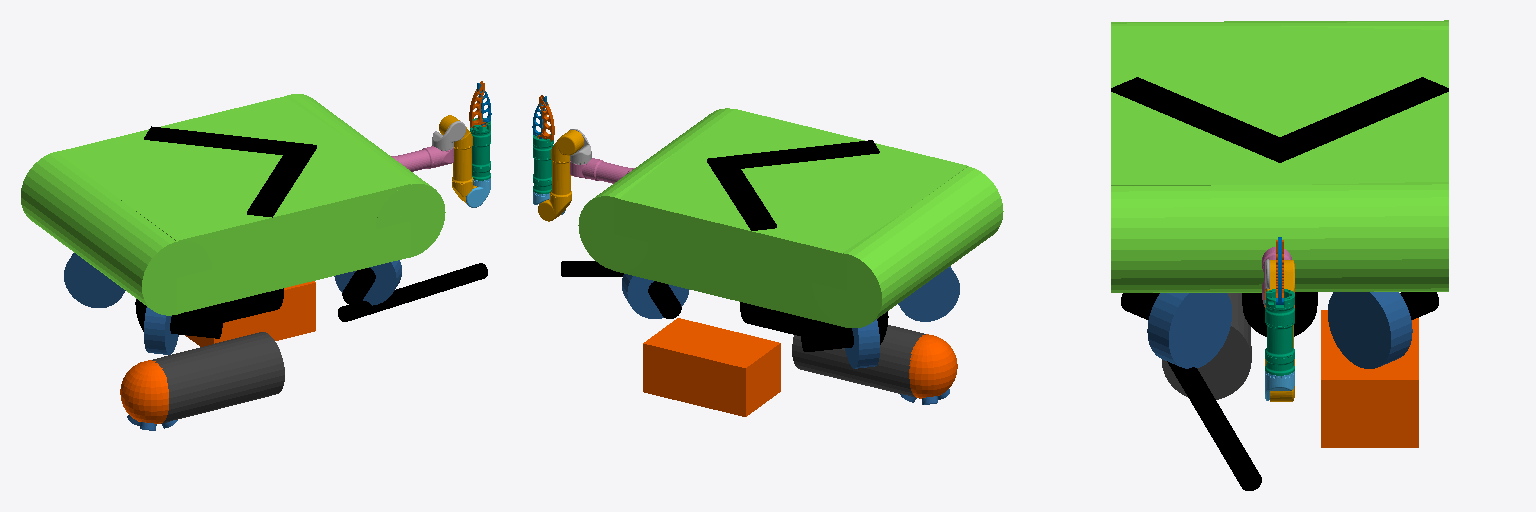
robot.urdf — seabotix_alpha:
<?xml version="1.0" encoding="utf-8"?>
<!-- =================================================================================== -->
<!-- |    This document was autogenerated by xacro from seabotix_alpha_kinematic.xacro | -->
<!-- |    EDITING THIS FILE BY HAND IS NOT RECOMMENDED                                 | -->
<!-- =================================================================================== -->
<!-- Testing out making an xacro with the vehicle and arm together
without any uuv simulator dependencies -->
<robot name="seabotix_alpha">
  <!--
    Vehicle's parameters (remember to enter the model parameters below)
  -->
  <!--
    Visual mesh file for the vehicle, usually in DAE (Collada) format. Be sure to store the
    mesh with the origin of the mesh on the same position of the center of mass, otherwise
    the mesh pose will have to be corrected below in the <visual> block.
    Open the meshes for the RexROV vehicle in Blender to see an example on the mesh placement.
  -->
  <!-- <xacro:property name="visual_mesh_file" value="file://$(find seabotix_alpha_description)/meshes/vehicle.dae"/> -->
  <!-- Collision geometry mesh, usually in STL format (it is recommended to keep
  this geometry as simple as possible to improve the performance the physics engine
  regarding the computation of collision forces) -->
  <!-- <xacro:property name="collision_mesh_file" value="file://$(find seabotix_alpha_description)/meshes/vehicle.stl"/> -->
  <!-- We do not have different visual and collision files, as we define them directly in the URDF 
       using primitive shapes.
  -->
  <!-- Vehicle macro -->
  <!-- <xacro:macro name="seabotix_alpha_base" params="namespace *gazebo"> -->
  <link name="base_link">
    <inertial>
      <mass value="0"/>
      <origin rpy="0 0 0" xyz="0 0 0"/>
      <inertia ixx="0" ixy="0" ixz="0" iyy="0" iyz="0" izz="0"/>
    </inertial>
  </link>
  <link name="world_link_x">
    <inertial>
      <mass value="0"/>
      <origin rpy="0 0 0" xyz="0 0 0"/>
      <inertia ixx="0" ixy="0" ixz="0" iyy="0" iyz="0" izz="0"/>
    </inertial>
  </link>
  <link name="world_link_y">
    <inertial>
      <mass value="0"/>
      <origin rpy="0 0 0" xyz="0 0 0"/>
      <inertia ixx="0" ixy="0" ixz="0" iyy="0" iyz="0" izz="0"/>
    </inertial>
  </link>
  <link name="world_link_z">
    <inertial>
      <mass value="0"/>
      <origin rpy="0 0 0" xyz="0 0 0"/>
      <inertia ixx="0" ixy="0" ixz="0" iyy="0" iyz="0" izz="0"/>
    </inertial>
  </link>
  <link name="world_link_roll">
    <inertial>
      <mass value="0"/>
      <origin rpy="0 0 0" xyz="0 0 0"/>
      <inertia ixx="0" ixy="0" ixz="0" iyy="0" iyz="0" izz="0"/>
    </inertial>
  </link>
  <link name="world_link_pitch">
    <inertial>
      <mass value="0"/>
      <origin rpy="0 0 0" xyz="0 0 0"/>
      <inertia ixx="0" ixy="0" ixz="0" iyy="0" iyz="0" izz="0"/>
    </inertial>
  </link>
  <!-- Rigid body description of the base link -->
  <!-- <link name="${namespace}/base_link"> -->
  <link name="world_link_yaw">
    <!--
          Be careful to setup the coefficients for the inertial tensor,
          otherwise your model will become unstable on Gazebo
        -->
    <inertial>
      <mass value="0"/>
      <origin rpy="0 0 0" xyz="0 0 0"/>
      <inertia ixx="0" ixy="0" ixz="0" iyy="0" iyz="0" izz="0"/>
    </inertial>
    <!-- <visual>
          <origin xyz="0 0 0" rpy="0 0 0"/>
          <geometry> -->
    <!-- <mesh filename="${visual_mesh_file}" scale="1 1 1" />  -->
    <!-- <box size="1 1 1" />
            <color rgb="blue" />
          </geometry>
        </visual>

        <collision>
          <origin xyz="0 0 0" rpy="0 0 0"/>
          <geometry>
            <box size="1 1 1" />
          </geometry>
        </collision> -->
  </link>
  <material name="green_v">
    <color rgba="0.5 0.9 0.3 1"/>
  </material>
  <material name="black_v">
    <color rgba="0 0 0 1"/>
  </material>
  <material name="red_v">
    <color rgba="1 0 0 1"/>
  </material>
  <material name="blue_v">
    <color rgba="0.2 0.4 0.6 1"/>
  </material>
  <material name="grey_v">
    <color rgba=".3 .3 .3 1"/>
  </material>
  <material name="orange_v">
    <color rgba="1 .4 0 1"/>
  </material>
  <link name="vehicle_base_link">
    <visual>
      <geometry>
        <box size="0.5 0.45 0.15"/>
      </geometry>
      <material name="green_v"/>
    </visual>
  </link>
  <link name="front_bumper">
    <visual>
      <geometry>
        <cylinder length="0.45" radius="0.075"/>
      </geometry>
      <material name="green_v"/>
    </visual>
  </link>
  <joint name="fbump_link" type="fixed">
    <parent link="vehicle_base_link"/>
    <child link="front_bumper"/>
    <origin rpy="1.57579632679 0 0" xyz="0.25 0 0"/>
  </joint>
  <link name="rear_bumper">
    <visual>
      <geometry>
        <cylinder length="0.45" radius="0.075"/>
      </geometry>
      <material name="green_v"/>
    </visual>
  </link>
  <joint name="rbump_link" type="fixed">
    <parent link="vehicle_base_link"/>
    <child link="rear_bumper"/>
    <origin rpy="1.57579632679 0 0" xyz="-0.25 0 0"/>
  </joint>
  <link name="l_arrow">
    <visual>
      <geometry>
        <box size="0.05 0.318 0.01"/>
      </geometry>
      <material name="black_v"/>
    </visual>
  </link>
  <joint name="l_arrow_link" type="fixed">
    <parent link="vehicle_base_link"/>
    <child link="l_arrow"/>
    <origin rpy="0 0 0.787898163397" xyz="0.05 0.095 0.075"/>
  </joint>
  <link name="r_arrow">
    <visual>
      <geometry>
        <box size="0.05 0.318 0.01"/>
      </geometry>
      <material name="black_v"/>
    </visual>
  </link>
  <joint name="r_arrow_link" type="fixed">
    <parent link="vehicle_base_link"/>
    <child link="r_arrow"/>
    <origin rpy="0 0 -0.787898163397" xyz="0.05 -0.095 0.075"/>
  </joint>
  <link name="sf_fan">
    <visual>
      <geometry>
        <cylinder length="0.04" radius="0.06"/>
      </geometry>
      <material name="blue_v"/>
    </visual>
  </link>
  <joint name="base_to_sf_fan" type="fixed">
    <parent link="vehicle_base_link"/>
    <child link="sf_fan"/>
    <origin rpy="0 1.57579632679 0.785" xyz="0.22 -0.12 -0.14"/>
  </joint>
  <link name="sf_thruster">
    <visual>
      <geometry>
        <cylinder length="0.1" radius="0.02"/>
      </geometry>
      <material name="black_v"/>
    </visual>
  </link>
  <joint name="sf_fan_thruster_joint" type="fixed">
    <parent link="sf_fan"/>
    <child link="sf_thruster"/>
    <origin xyz="0 0 -0.06"/>
  </joint>
  <link name="pf_fan">
    <visual>
      <geometry>
        <cylinder length="0.04" radius="0.06"/>
      </geometry>
      <material name="blue_v"/>
    </visual>
  </link>
  <joint name="base_to_pf_fan" type="fixed">
    <parent link="vehicle_base_link"/>
    <child link="pf_fan"/>
    <origin rpy="0 1.57579632679 -0.785" xyz="0.22 0.12 -0.14"/>
  </joint>
  <link name="pf_thruster">
    <visual>
      <geometry>
        <cylinder length="0.1" radius="0.02"/>
      </geometry>
      <material name="black_v"/>
    </visual>
  </link>
  <joint name="pf_fan_thruster_joint" type="fixed">
    <parent link="pf_fan"/>
    <child link="pf_thruster"/>
    <origin xyz="0 0 -0.06"/>
  </joint>
  <link name="sa_fan">
    <visual>
      <geometry>
        <cylinder length="0.04" radius="0.06"/>
      </geometry>
      <material name="blue_v"/>
    </visual>
  </link>
  <joint name="base_to_sa_fan" type="fixed">
    <parent link="vehicle_base_link"/>
    <child link="sa_fan"/>
    <origin rpy="0 -1.57579632679 -0.785" xyz="-0.22 -0.12 -0.14"/>
  </joint>
  <link name="sa_thruster">
    <visual>
      <geometry>
        <cylinder length="0.1" radius="0.02"/>
      </geometry>
      <material name="black_v"/>
    </visual>
  </link>
  <joint name="sa_fan_thruster_joint" type="fixed">
    <parent link="sa_fan"/>
    <child link="sa_thruster"/>
    <origin xyz="0 0 -0.06"/>
  </joint>
  <link name="pa_fan">
    <visual>
      <geometry>
        <cylinder length="0.04" radius="0.06"/>
      </geometry>
      <material name="blue_v"/>
    </visual>
  </link>
  <joint name="base_to_pa_fan" type="fixed">
    <parent link="vehicle_base_link"/>
    <child link="pa_fan"/>
    <origin rpy="0 -1.57579632679 0.785" xyz="-0.22 0.12 -0.14"/>
  </joint>
  <link name="pa_thruster">
    <visual>
      <geometry>
        <cylinder length="0.1" radius="0.02"/>
      </geometry>
      <material name="black_v"/>
    </visual>
  </link>
  <joint name="pa_fan_thruster_joint" type="fixed">
    <parent link="pa_fan"/>
    <child link="pa_thruster"/>
    <origin xyz="0 0 -0.06"/>
  </joint>
  <link name="seabotix_bottle">
    <visual>
      <geometry>
        <cylinder length="0.26" radius="0.05"/>
      </geometry>
      <material name="black_v"/>
    </visual>
  </link>
  <joint name="sbottle_link" type="fixed">
    <parent link="vehicle_base_link"/>
    <child link="seabotix_bottle"/>
    <origin rpy="0 1.57579632679 0" xyz="-0.05 0 -0.18"/>
  </joint>
  <!-- 
      <link name="greensea">
        <visual>
          <geometry>
            <cylinder length="0.2" radius="0.04"/>
          </geometry>
          <origin rpy="0 ${pi/2} 0"/>
          <material name="grey_v"/>
        </visual>
      </link>

      <joint name="gbottle_link" type="fixed">
        <parent link="greensea"/>
        <child link="vehicle_base_link"/>
        <origin rpy="-${pi} 0 0" xyz="0 0 -0.27"/>
      </joint> -->
  <link name="dvl">
    <visual>
      <geometry>
        <cylinder length="0.25" radius="0.06"/>
      </geometry>
      <material name="grey_v"/>
      <origin rpy="0 1.57579632679 0" xyz="-0.125 0 0"/>
    </visual>
  </link>
  <joint name="dvl_link" type="fixed">
    <parent link="vehicle_base_link"/>
    <child link="dvl"/>
    <origin rpy="0 0 3.15159265359" xyz="-0.23 -0.1 -0.29"/>
  </joint>
  <link name="dvl_head">
    <visual>
      <geometry>
        <sphere radius="0.06"/>
      </geometry>
      <material name="orange_v"/>
    </visual>
  </link>
  <joint name="dvl_head_link" type="fixed">
    <parent link="dvl"/>
    <child link="dvl_head"/>
    <origin rpy="0 0 -0.787898163397" xyz="0 0 0"/>
  </joint>
  <link name="dvl_altitude"/>
  <joint name="dvl_altitude_link" type="fixed">
    <parent link="dvl_head"/>
    <child link="dvl_altitude"/>
    <origin rpy="0 1.57579632679 0" xyz="0 0 0"/>
  </joint>
  <link name="dvl_beam1">
    <visual>
      <geometry>
        <cylinder length="0.07" radius="0.015"/>
      </geometry>
      <origin rpy="0 1.57579632679 0" xyz="0.035 0 0"/>
      <material name="blue_v"/>
    </visual>
  </link>
  <joint name="dvl_beam1_link" type="fixed">
    <parent link="dvl_head"/>
    <child link="dvl_beam1"/>
    <origin rpy="0 1.05053088453 1.57579632679" xyz="0 0 0"/>
  </joint>
  <link name="dvl_beam2">
    <visual>
      <geometry>
        <cylinder length="0.07" radius="0.015"/>
      </geometry>
      <origin rpy="0 1.57579632679 0" xyz="0.035 0 0"/>
      <material name="blue_v"/>
    </visual>
  </link>
  <joint name="dvl_beam2_link" type="fixed">
    <parent link="dvl_head"/>
    <child link="dvl_beam2"/>
    <origin rpy="0 1.05053088453 -1.57579632679" xyz="0 0 0"/>
  </joint>
  <link name="dvl_beam3">
    <visual>
      <geometry>
        <cylinder length="0.07" radius="0.015"/>
      </geometry>
      <origin rpy="0 1.57579632679 0" xyz="0.035 0 0"/>
      <material name="blue_v"/>
    </visual>
  </link>
  <joint name="dvl_beam3_link" type="fixed">
    <parent link="dvl_head"/>
    <child link="dvl_beam3"/>
    <origin rpy="0 1.05053088453 0" xyz="0 0 0"/>
  </joint>
  <link name="dvl_beam4">
    <visual>
      <geometry>
        <cylinder length="0.07" radius="0.015"/>
      </geometry>
      <origin rpy="0 1.57579632679 0" xyz="0.035 0 0"/>
      <material name="blue_v"/>
    </visual>
  </link>
  <joint name="dvl_beam4_link" type="fixed">
    <parent link="dvl_head"/>
    <child link="dvl_beam4"/>
    <origin rpy="0 1.05053088453 3.15159265359" xyz="0 0 0"/>
  </joint>
  <link name="sonar">
    <visual>
      <geometry>
        <box size="0.22 0.13 0.1"/>
      </geometry>
      <material name="orange_v"/>
    </visual>
  </link>
  <joint name="sonar_link" type="fixed">
    <parent link="vehicle_base_link"/>
    <child link="sonar"/>
    <origin xyz="0.1 0.12 -0.28"/>
  </joint>
  <link name="gripper_pole">
    <visual>
      <geometry>
        <cylinder length="0.38" radius="0.015"/>
      </geometry>
      <origin rpy="0 1.57579632679 0" xyz="0.19 0 0"/>
      <material name="black_v"/>
    </visual>
  </link>
  <joint name="gripper_pole_link" type="fixed">
    <parent link="vehicle_base_link"/>
    <child link="gripper_pole"/>
    <origin rpy="0 0.1 0.3" xyz="0.15 -0.15 -0.2"/>
  </joint>
  <!-- Reach 5 Arm -->
  <link name="arm_base_link">
    <visual>
      <geometry>
        <mesh filename="package://reach_system_one_support/meshes/reach5mini/visual/Base.stl"/>
      </geometry>
      <origin rpy="0 0 0" xyz="0 0 0"/>
      <material name="black"/>
    </visual>
    <collision>
      <geometry>
        <cylinder length="0.150" radius="0.020"/>
      </geometry>
      <origin rpy="0 1.57075 0" xyz="-0.075 0 0"/>
    </collision>
    <inertial>
      <mass value="0.341"/>
      <origin xyz="-0.075 -0.006 -0.003"/>
      <inertia ixx="0.000099" ixy="0.000139" ixz="0.000115" iyy="0.002920" iyz="0.000003" izz="0.002934"/>
    </inertial>
  </link>
  <link name="shoulder_link">
    <visual>
      <geometry>
        <mesh filename="package://reach_system_one_support/meshes/reach5mini/visual/ShoulderJoint.stl"/>
      </geometry>
      <material name="black"/>
      <origin rpy="0 0 -1.57075" xyz="0 0 0"/>
    </visual>
    <collision>
      <geometry>
        <cylinder length="0.066" radius="0.020"/>
      </geometry>
      <origin rpy="0 0 0" xyz="0 0 0.010"/>
    </collision>
    <inertial>
      <mass value="0.194"/>
      <origin xyz="0.005 -0.001 0.016"/>
      <inertia ixx="0.000189" ixy="0.000005" ixz="0.000054" iyy="0.000213" iyz="0.000003" izz="0.000067"/>
    </inertial>
  </link>
  <link name="upper_arm_link">
    <visual>
      <geometry>
        <mesh filename="package://reach_system_one_support/meshes/reach5mini/visual/UpperArm.stl"/>
      </geometry>
      <origin rpy="0 -1.57075 -0.2655555" xyz="0 0 -0.075"/>
      <material name="black"/>
    </visual>
    <collision>
      <geometry>
        <cylinder length="0.1445" radius="0.020"/>
      </geometry>
      <origin rpy="0 1.57075 -0.27075" xyz="0.075 0 0"/>
    </collision>
    <collision>
      <geometry>
        <cylinder length="0.040" radius="0.020"/>
      </geometry>
      <origin rpy="0 0 0" xyz="0 0 0"/>
    </collision>
    <inertial>
      <mass value="0.429"/>
      <origin xyz="0.073 0.0 0.0"/>
      <inertia ixx="0.000087" ixy="-0.000076" ixz="-0.000010" iyy="0.003190" iyz="0.000000" izz="0.003213"/>
    </inertial>
  </link>
  <link name="forearm_link">
    <visual>
      <geometry>
        <mesh filename="package://reach_system_one_support/meshes/reach5mini/visual/ForearmJoint.stl"/>
      </geometry>
      <origin rpy="0 0 0" xyz="0 0 0"/>
      <material name="black"/>
    </visual>
    <collision>
      <geometry>
        <cylinder length="0.040" radius="0.020"/>
      </geometry>
      <origin rpy="0 0 0" xyz="0 0 0"/>
    </collision>
    <inertial>
      <mass value="0.115"/>
      <origin xyz="0.017 -0.026 -0.002"/>
      <inertia ixx="0.000120" ixy="-0.000061" ixz="-0.000001" iyy="0.000062" iyz="0.000000" izz="0.000156"/>
    </inertial>
  </link>
  <link name="wrist_link">
    <visual>
      <geometry>
        <mesh filename="package://reach_system_one_support/meshes/reach5mini/visual/Wrist.stl"/>
      </geometry>
      <origin rpy="0 0 0" xyz="0 0 0"/>
      <material name="black"/>
    </visual>
    <collision>
      <geometry>
        <cylinder length="0.140" radius="0.020"/>
      </geometry>
      <origin rpy="0 0 0" xyz="0 0 -0.070"/>
    </collision>
    <inertial>
      <mass value="0.333"/>
      <origin xyz="0.0 0.003 -0.098"/>
      <inertia ixx="0.003709" ixy="-0.000002" ixz="-0.000004" iyy="0.003734" iyz="0.000000" izz="0.000079"/>
    </inertial>
  </link>
  <link name="tip">
  </link>
  <link name="jaw1">
    <visual>
      <geometry>
        <mesh filename="package://reach_system_one_support/meshes/reach5mini/visual/Jaw1.stl"/>
      </geometry>
      <origin rpy="0 0 0" xyz="0 0 0"/>
      <material name="black"/>
    </visual>
    <collision>
      <geometry>
        <box size="0.03 0.09 0.01"/>
      </geometry>
      <origin rpy="0 0 0" xyz="-0.01 -0.045 0"/>
    </collision>
  </link>
  <link name="jaw2">
    <visual>
      <geometry>
        <mesh filename="package://reach_system_one_support/meshes/reach5mini/visual/Jaw2.stl"/>
      </geometry>
      <origin rpy="0 0 0" xyz="0 0 0"/>
      <material name="black"/>
    </visual>
    <collision>
      <geometry>
        <box size="0.03 0.09 0.01"/>
      </geometry>
      <origin rpy="0 0 0" xyz="0.01 -0.045 0"/>
    </collision>
  </link>
  <joint name="joint1" type="revolute">
    <parent link="arm_base_link"/>
    <child link="shoulder_link"/>
    <origin rpy="0 0 0" xyz="0 0 0"/>
    <!--Was <origin xyz="0 0 0" rpy="0 0 3.141592/> before-->
    <axis xyz="0 0 1"/>
    <limit effort="9.0" lower="0.0" upper="6.2" velocity="0.5"/>
  </joint>
  <joint name="joint2" type="revolute">
    <parent link="shoulder_link"/>
    <child link="upper_arm_link"/>
    <origin rpy="1.57075 1.3 0" xyz="0.020 0 0.046"/>
    <axis xyz="0 0 1"/>
    <limit effort="9.0" lower="0.0" upper="3.5" velocity="0.5"/>
  </joint>
  <joint name="joint3" type="revolute">
    <parent link="upper_arm_link"/>
    <child link="forearm_link"/>
    <origin rpy="3.1415 0 1.3" xyz="0.15 0 0"/>
    <axis xyz="0 0 1"/>
    <limit effort="9.0" lower="0.0" upper="3.5" velocity="0.5"/>
  </joint>
  <joint name="joint4" type="revolute">
    <parent link="forearm_link"/>
    <child link="wrist_link"/>
    <origin rpy="-1.57075 0 0" xyz="0.020 0 0"/>
    <axis xyz="0 0 1"/>
    <limit effort="5.0" lower="0.0" upper="6.0" velocity="1.0"/>
  </joint>
  <joint name="joint5" type="revolute">
    <parent link="wrist_link"/>
    <child link="jaw1"/>
    <origin rpy="1.57075 0 0" xyz="0.015 0 -0.140"/>
    <axis xyz="0 0 1"/>
    <limit effort="5.0" lower="0.0" upper="0.5" velocity="0.5"/>
  </joint>
  <joint name="joint6" type="revolute">
    <parent link="wrist_link"/>
    <child link="jaw2"/>
    <origin rpy="1.57075 0 0" xyz="-0.015 0 -0.140"/>
    <axis xyz="0 0 -1"/>
    <limit effort="5.0" lower="0.0" upper="0.5" velocity="0.5"/>
  </joint>
  <joint name="arm_to_tip" type="fixed">
    <parent link="wrist_link"/>
    <child link="tip"/>
    <origin rpy="0 1.57075 0" xyz="0 0 -0.180"/>
  </joint>
  <joint name="x_displacement" type="prismatic">
    <parent link="base_link"/>
    <child link="world_link_x"/>
    <origin rpy="0 0 0" xyz="0 0 0"/>
    <axis xyz="1 0 0"/>
    <limit effort="100" lower="-10" upper="10" velocity="0.5"/>
    <!-- Assume we are operating in 20x20x20m cube-->
  </joint>
  <joint name="y_displacement" type="prismatic">
    <parent link="world_link_x"/>
    <child link="world_link_y"/>
    <origin rpy="0 0 0" xyz="0 0 0"/>
    <axis xyz="0 1 0"/>
    <limit effort="100" lower="-10" upper="10" velocity="0.5"/>
    <!-- Assume we are operating in 20x20x20m cube-->
  </joint>
  <joint name="z_displacement" type="prismatic">
    <parent link="world_link_y"/>
    <child link="world_link_z"/>
    <origin rpy="0 0 0" xyz="0 0 0"/>
    <axis xyz="0 0 1"/>
    <limit effort="100" lower="-10" upper="10" velocity="0.5"/>
    <!-- Assume we are operating in 20x20x20m cube-->
  </joint>
  <joint name="roll_displacement" type="revolute">
    <parent link="world_link_z"/>
    <child link="world_link_roll"/>
    <origin rpy="0 0 0" xyz="0 0 0"/>
    <axis xyz="1 0 0"/>
    <limit effort="100" lower="-1.57579632679" upper="1.57579632679" velocity="0.315159265359"/>
    <!-- Assume we can roll by pi/2-->
  </joint>
  <joint name="pitch_displacement" type="revolute">
    <parent link="world_link_roll"/>
    <child link="world_link_pitch"/>
    <origin rpy="0 0 0" xyz="0 0 0"/>
    <axis xyz="0 1 0"/>
    <limit effort="100" lower="-1.57579632679" upper="1.57579632679" velocity="0.315159265359"/>
    <!-- Assume we can pitch by pi/2-->
  </joint>
  <joint name="yaw_displacement" type="continuous">
    <parent link="world_link_pitch"/>
    <child link="world_link_yaw"/>
    <origin rpy="0 0 0" xyz="0 0 0"/>
    <axis xyz="0 0 1"/>
    <limit effort="100" velocity="0.315159265359"/>
    <!-- Assume we have no limit on yaw-->
  </joint>
  <!-- Add a link attaching the vehicle to the world base link -->
  <joint name="joint_vehicle_base_world" type="fixed">
    <!-- <parent link="${namespace}/base_link"/> -->
    <parent link="world_link_yaw"/>
    <child link="vehicle_base_link"/>
    <origin rpy="0 0 0" xyz="0 0 0"/>
  </joint>
  <!-- Add a link attaching the arm to the world base link -->
  <joint name="joint_arm_base_world" type="fixed">
    <!-- <parent link="${namespace}/base_link"/> -->
    <parent link="world_link_yaw"/>
    <child link="arm_base_link"/>
    <origin rpy="0 0 0" xyz="0.45 0 0"/>
  </joint>
  <!-- <gazebo reference="${namespace}/base_link"> -->
  <gazebo reference="world_link_yaw">
    <selfCollide>false</selfCollide>
  </gazebo>
  <!-- Set up hydrodynamic plugin given as input parameter -->
  <!-- <xacro:insert_block name="gazebo"/> -->
  <!-- Include the thruster modules -->
  <!-- <xacro:include filename="$(find seabotix_alpha_description)/urdf/actuators.xacro"/> -->
  <!-- Include the sensor modules -->
  <!-- <xacro:include filename="$(find seabotix_alpha_description)/urdf/sensors.xacro"/> -->
  <!-- </xacro:macro> -->
</robot>

--- Facts derived from the render (not from the file) ---
Views: 3 orthographic renders of the robot side by side, from view 1: azimuth 30°, elevation 25°; view 2: azimuth 150°, elevation 25°; view 3: azimuth 270°, elevation 25°.
Robot: seabotix_alpha — 38 links, 37 joints (8 revolute, 1 continuous, 3 prismatic, 25 fixed); root link base_link; default pose: all joints at 0.
Visible links, largest first — view 1: vehicle_base_link, rear_bumper, dvl, front_bumper, sonar, dvl_head, gripper_pole, r_arrow, l_arrow, pa_fan, seabotix_bottle, upper_arm_link (+7 smaller); view 2: vehicle_base_link, rear_bumper, sonar, front_bumper, dvl, dvl_head, r_arrow, sa_fan, upper_arm_link, l_arrow, seabotix_bottle, pf_fan (+6 smaller); view 3: vehicle_base_link, front_bumper, sonar, pf_fan, sf_fan, l_arrow, r_arrow, gripper_pole, dvl, wrist_link, rear_bumper, seabotix_bottle (+4 smaller).
Boxes of the visible links, left/top/right/bottom form: vehicle_base_link: left=62, top=97, right=410, bottom=313; rear_bumper: left=21, top=151, right=211, bottom=315; dvl: left=152, top=332, right=284, bottom=423; front_bumper: left=284, top=94, right=445, bottom=257; sonar: left=185, top=281, right=315, bottom=346; dvl_head: left=120, top=360, right=168, bottom=423; gripper_pole: left=338, top=263, right=487, bottom=321; r_arrow: left=247, top=142, right=316, bottom=217; l_arrow: left=144, top=126, right=316, bottom=155; pa_fan: left=64, top=253, right=125, bottom=307; seabotix_bottle: left=135, top=288, right=283, bottom=331; upper_arm_link: left=439, top=115, right=476, bottom=203; vehicle_base_link: left=614, top=109, right=967, bottom=327; rear_bumper: left=812, top=166, right=1003, bottom=327; sonar: left=643, top=318, right=780, bottom=416; front_bumper: left=578, top=108, right=733, bottom=270; dvl: left=792, top=325, right=925, bottom=398; dvl_head: left=909, top=334, right=957, bottom=398; r_arrow: left=707, top=140, right=879, bottom=169; sa_fan: left=898, top=266, right=959, bottom=321; upper_arm_link: left=538, top=130, right=583, bottom=221; l_arrow: left=707, top=157, right=776, bottom=230; seabotix_bottle: left=740, top=302, right=888, bottom=344; pf_fan: left=622, top=274, right=688, bottom=318; vehicle_base_link: left=1111, top=26, right=1448, bottom=185; front_bumper: left=1111, top=182, right=1448, bottom=292; sonar: left=1321, top=310, right=1418, bottom=447; pf_fan: left=1328, top=292, right=1412, bottom=368; sf_fan: left=1147, top=293, right=1231, bottom=368; l_arrow: left=1255, top=77, right=1448, bottom=162; r_arrow: left=1111, top=77, right=1300, bottom=162; gripper_pole: left=1167, top=361, right=1261, bottom=490; dvl: left=1162, top=293, right=1251, bottom=399; wrist_link: left=1265, top=289, right=1294, bottom=375; rear_bumper: left=1111, top=20, right=1448, bottom=29; seabotix_bottle: left=1242, top=292, right=1317, bottom=336.
Size in the robot's own frame: 0.8768 by 0.4507 by 0.4848 metres.
Meshes: 7 distinct files referenced, 7 mesh visuals loaded (7 binary STL).
